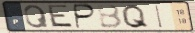B: (95, 4, 125, 29)
E: (47, 4, 76, 29)
I: (154, 4, 164, 30)
P: (73, 3, 98, 30)
Q: (121, 4, 152, 30), (22, 4, 50, 29)
